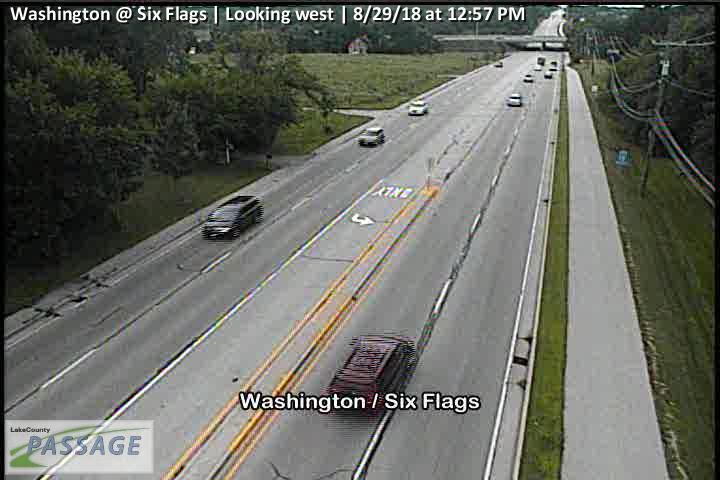SUV: (321, 333, 416, 417), (200, 196, 264, 241), (357, 126, 383, 148), (407, 100, 427, 116), (507, 92, 521, 106)
